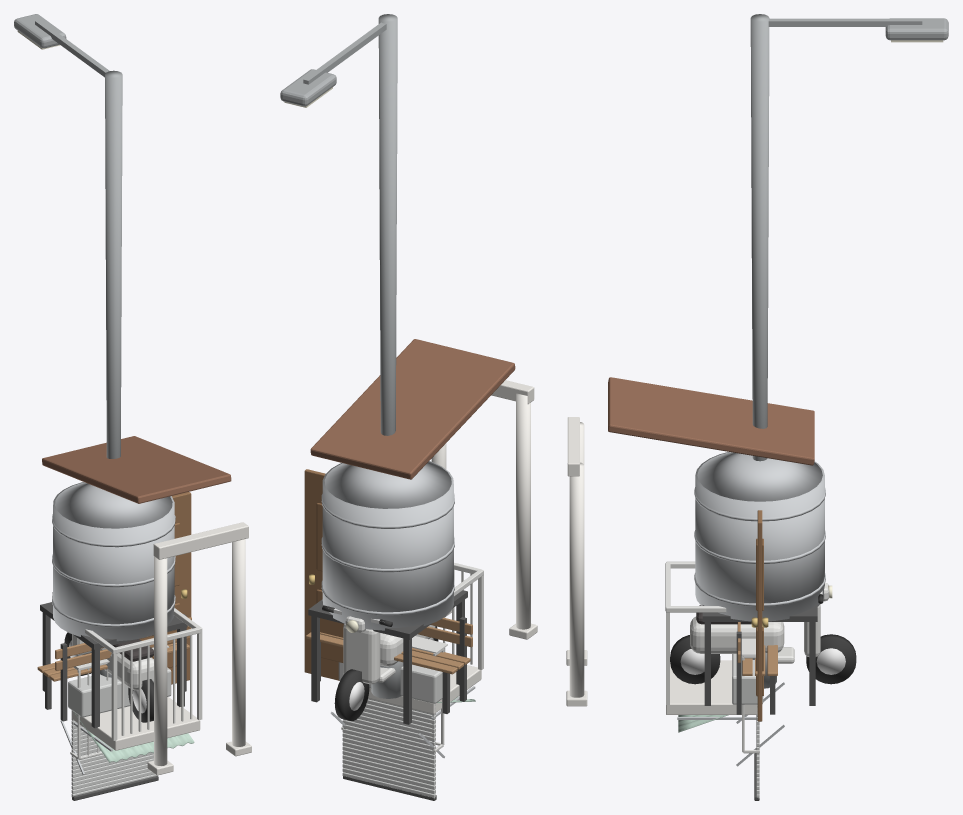
Rendered from kit.glb.
3 renders of one model, left to right at view 1: azimuth 30°, elevation 25°; view 2: azimuth 150°, elevation 25°; view 3: azimuth 270°, elevation 25°, orthographic. The views are drawn at different scales.
Parts seen in each view (by area): view 1: tank, porch, lamp, balcony, shutter, bench, door, scooter, awning, ironbar; view 2: tank, porch, lamp, shutter, scooter, door, bench, balcony, ironbar; view 3: tank, porch, lamp, scooter, balcony, door, bench, shutter, awning.
Boxes of the visible parts, x1=… form: tank: x1=40, y1=482, x2=187, y2=728; porch: x1=42, y1=436, x2=251, y2=775; lamp: x1=14, y1=14, x2=122, y2=677; balcony: x1=71, y1=608, x2=202, y2=750; shutter: x1=68, y1=667, x2=171, y2=800; bench: x1=37, y1=614, x2=191, y2=721; door: x1=140, y1=492, x2=191, y2=684; scooter: x1=52, y1=592, x2=153, y2=722; awning: x1=60, y1=711, x2=194, y2=774; ironbar: x1=70, y1=645, x2=169, y2=759; tank: x1=308, y1=461, x2=467, y2=724; porch: x1=310, y1=339, x2=537, y2=639; lamp: x1=280, y1=14, x2=403, y2=698; shutter: x1=338, y1=662, x2=450, y2=800; scooter: x1=322, y1=605, x2=438, y2=720; door: x1=304, y1=469, x2=343, y2=680; bench: x1=306, y1=617, x2=472, y2=713; balcony: x1=368, y1=562, x2=483, y2=713; ironbar: x1=341, y1=636, x2=447, y2=752; tank: x1=694, y1=452, x2=825, y2=705; porch: x1=566, y1=377, x2=814, y2=706; lamp: x1=750, y1=14, x2=948, y2=688; scooter: x1=670, y1=582, x2=856, y2=684; balcony: x1=665, y1=561, x2=757, y2=714; door: x1=751, y1=510, x2=768, y2=721; bench: x1=736, y1=622, x2=777, y2=714; shutter: x1=732, y1=654, x2=763, y2=800; awning: x1=677, y1=682, x2=784, y2=766.
Size of the model in its own units: 1.7 by 8.02 by 3.65.
